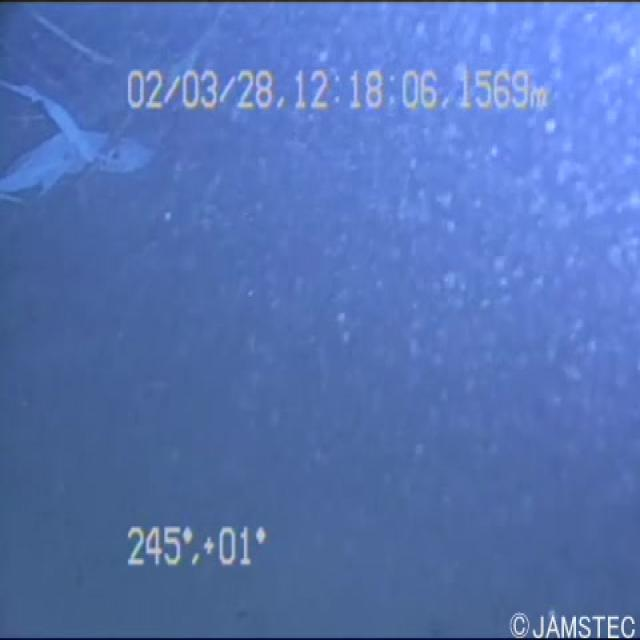plastic: (0, 34, 148, 217)
